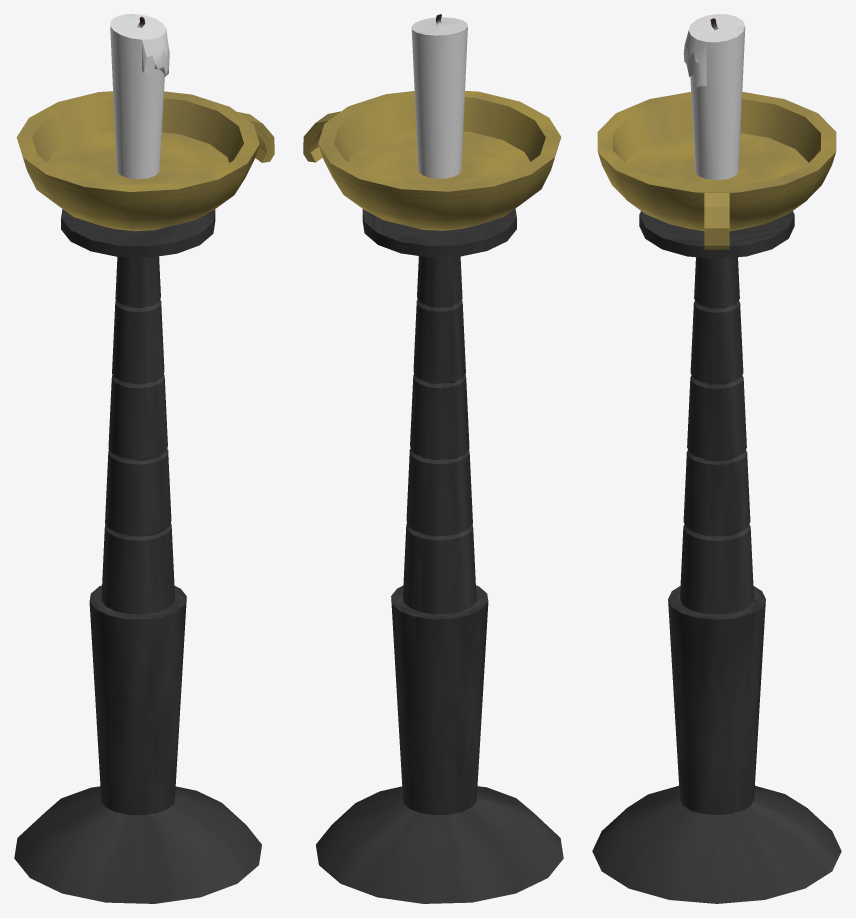
The model's file is candlestickR.obj.
3 renders of one model, left to right at view 1: azimuth 30°, elevation 25°; view 2: azimuth 150°, elevation 25°; view 3: azimuth 270°, elevation 25°, orthographic.
Parts seen in each view (by area): view 1: 円柱.001; view 2: 円柱.001; view 3: 円柱.001.
Part boxes in pixels (box(x1,y1,x2,y2)): 円柱.001: box(14, 14, 274, 903); 円柱.001: box(303, 14, 563, 903); 円柱.001: box(592, 14, 841, 903).
Size of the model in its own units: 1.03 by 3.44 by 0.9336.
3 materials, 3 textured.
